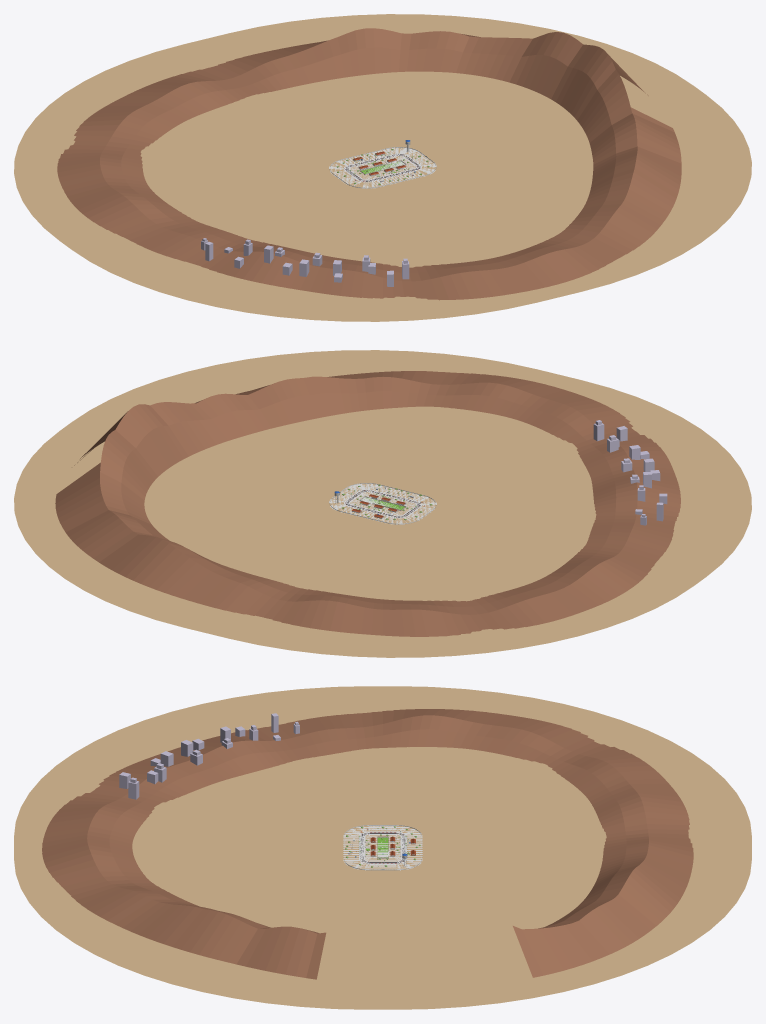
File: housing.glb
3 renders of one model, top to bottom at view 1: azimuth 30°, elevation 25°; view 2: azimuth 150°, elevation 25°; view 3: azimuth 270°, elevation 25°, orthographic. The views are drawn at different scales.
Parts seen in each view (by area): view 1: VIS_gravel, VIS_rock, VIS_haze, COL_gravel_outfield; view 2: VIS_gravel, VIS_rock, VIS_haze, COL_gravel_outfield; view 3: VIS_gravel, VIS_rock, VIS_haze, COL_gravel_outfield.
Part boxes in pixels (x1,y1,x2,y2): VIS_gravel: (14, 14, 751, 321); VIS_rock: (57, 28, 681, 300); VIS_haze: (201, 174, 413, 286); COL_gravel_outfield: (329, 147, 436, 188); VIS_gravel: (14, 350, 751, 657); VIS_rock: (55, 371, 680, 636); VIS_haze: (385, 420, 667, 525); COL_gravel_outfield: (329, 483, 436, 524); VIS_gravel: (14, 686, 751, 1009); VIS_rock: (42, 709, 693, 979); VIS_haze: (119, 713, 350, 853); COL_gravel_outfield: (343, 825, 422, 870).
Bounding box in the file's own units: 1540 × 117 × 1484.
